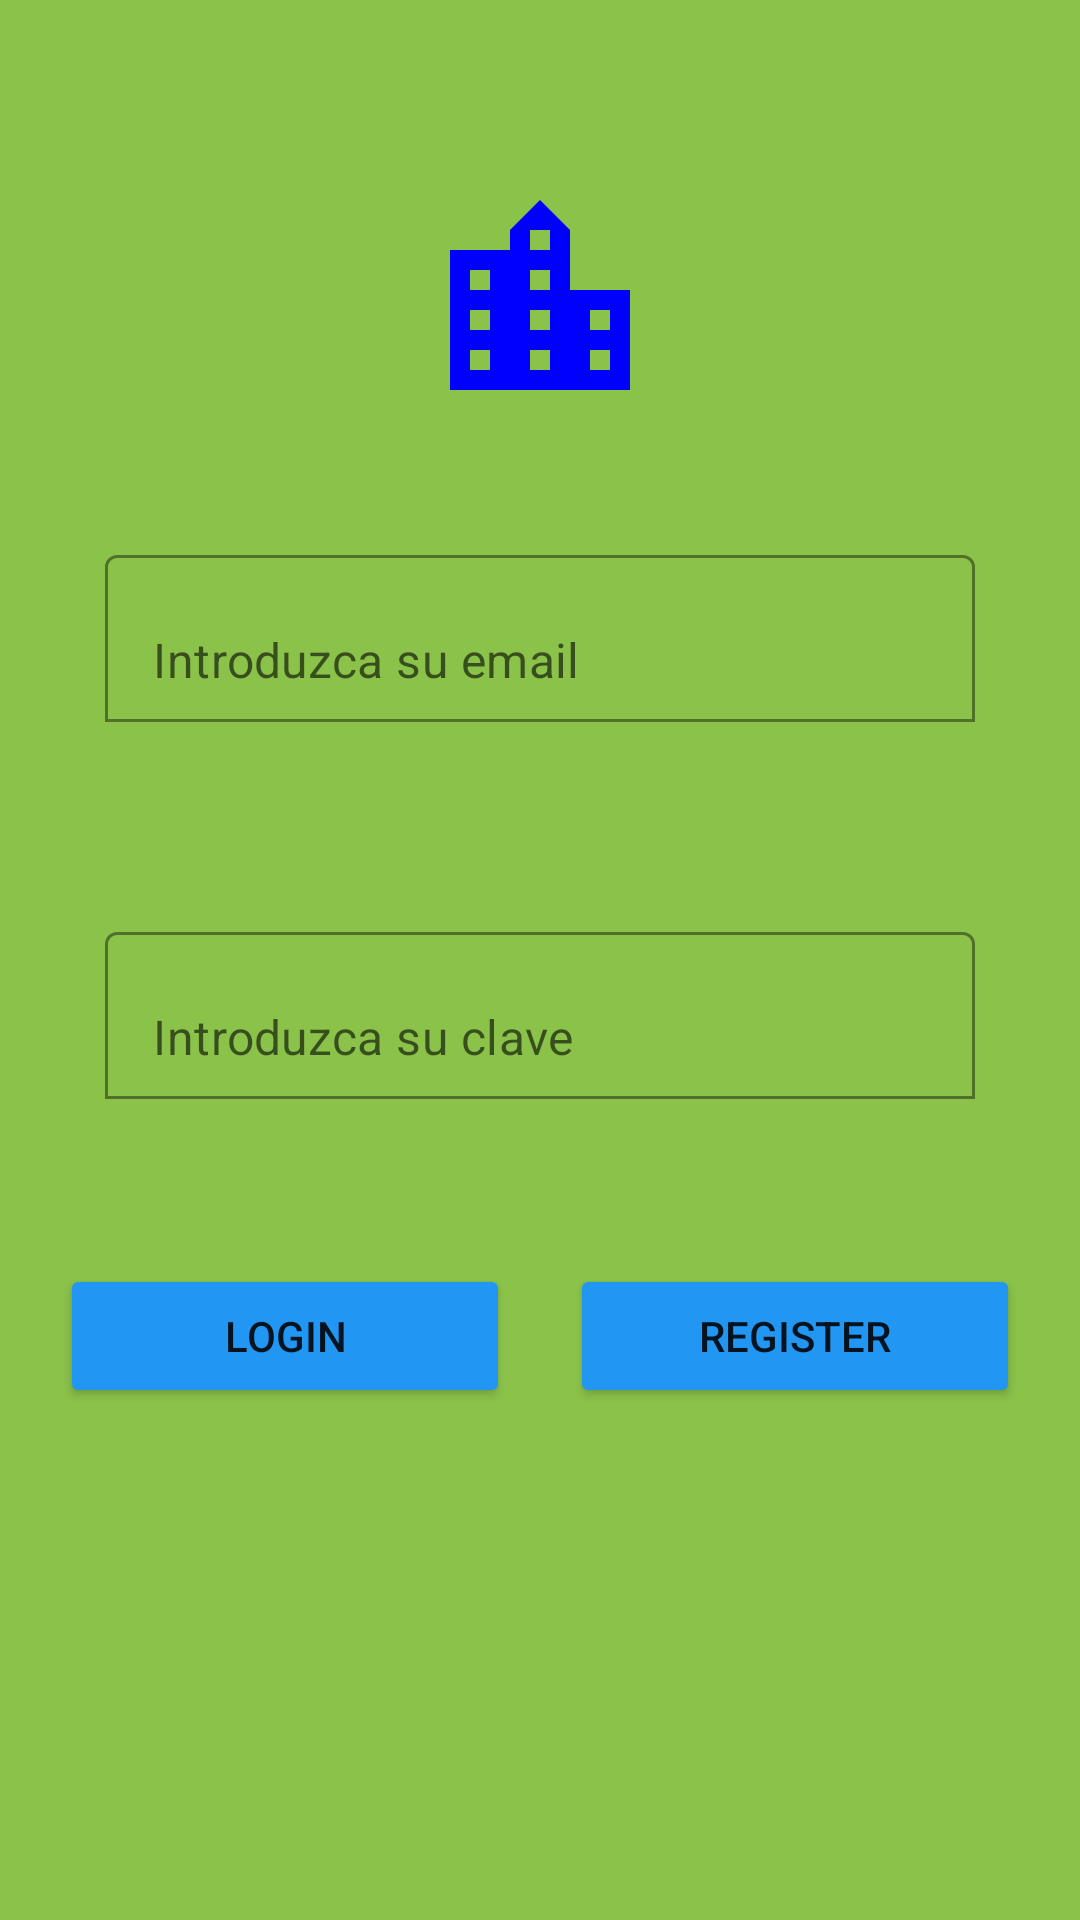

Named icons in this screenshot (1080 × 1920) and their centers, [x,y]:
location city: [540,295]
